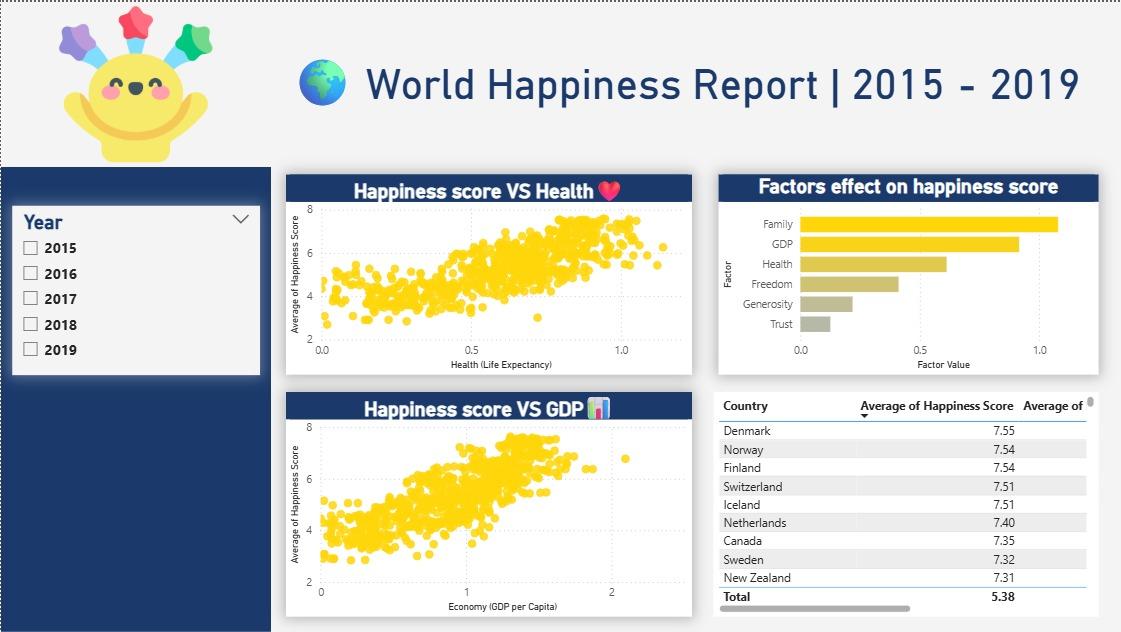

Layout of this report page (visuals, bound fields, positions):
{"tool":"powerbi","page":{"name":"Duplicate of Page 2","canvas":[1280,720],"ordinal":2},"visuals":[{"type":"shape","box":[0,188.6,308.6,531.4],"z":0},{"type":"textbox","box":[325.7,48.6,928.6,91.4],"z":1000},{"type":"image","box":[0,0,308.6,188.6],"z":2000},{"type":"slicer","fields":{"Values":["allData.Year"]},"box":[13.3,233.3,283.3,193.3],"z":3000},{"type":"scatterChart","title":"Happiness score VS GDP📊","fields":{"X":["allData.Economy (GDP per Capita)"],"Y":["Avg(allData.Happiness Score)"]},"box":[325.7,445.7,464.3,257.1],"z":4000},{"type":"tableEx","fields":{"Values":["allData.Country","Avg(allData.Happiness Score)","Avg(allData.Economy (GDP per Capita))","Sum(allData.Health (Life Expectancy))"]},"box":[814.3,445.7,440,257.1],"z":5000},{"type":"scatterChart","title":"Happiness score VS Health❤️","fields":{"Y":["Avg(allData.Happiness Score)"],"X":["allData.Health (Life Expectancy)"]},"box":[325.7,197.1,464.3,228.6],"z":6000},{"type":"barChart","title":"Factors effect on happiness score","fields":{"Y":["allData.Factor Value"],"Category":["Factors.Factor"]},"box":[820,197.1,434.3,228.6],"z":7000}]}

Visuals, with their boxes in screenshot pixels (x1, y1, x2, y2), scaled from the page's 1280x720 canvas onto the 1121x632 screenshot:
shape: [0,166,270,631]
textbox: [285,43,1098,123]
image: [0,0,270,166]
slicer - allData.Year: [12,205,260,374]
"Happiness score VS GDP📊" scatterChart: [285,391,692,617]
tableEx - allData.Country x Avg(allData.Happiness Score): [713,391,1098,617]
"Happiness score VS Health❤️" scatterChart: [285,173,692,374]
"Factors effect on happiness score" barChart: [718,173,1098,374]
